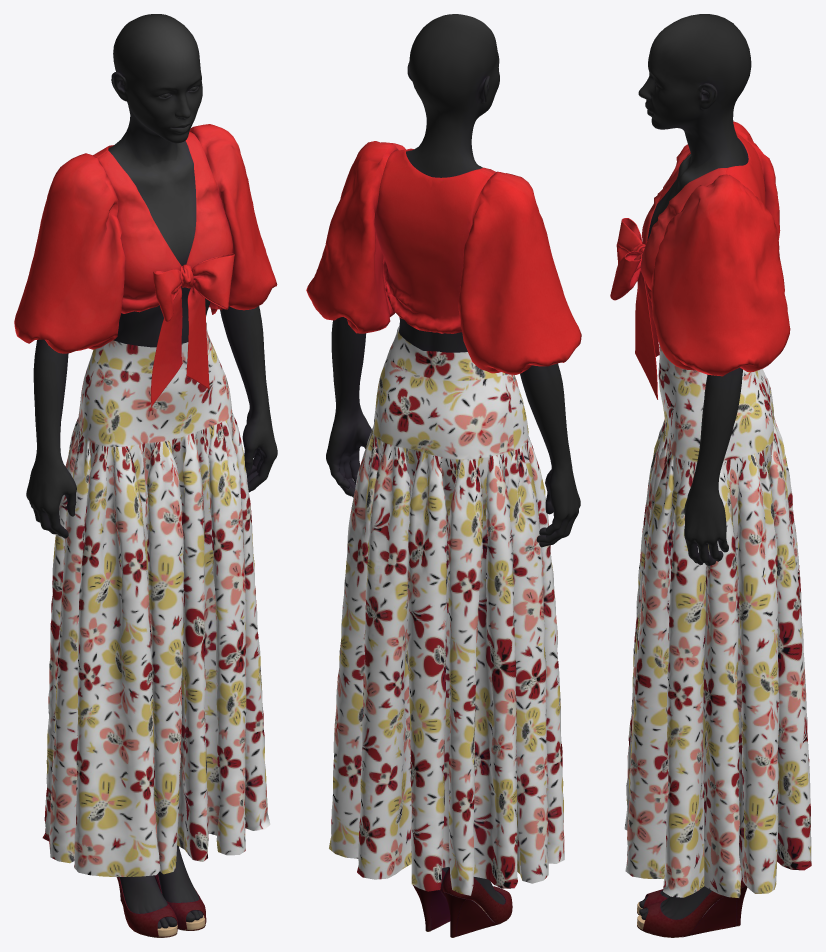
Rendered from Set_01.glb.
3 renders of one model, left to right at view 1: azimuth 30°, elevation 25°; view 2: azimuth 150°, elevation 25°; view 3: azimuth 270°, elevation 25°, orthographic.
Parts seen in each view (by area): view 1: Set01, Maniqui, Zapatos; view 2: Set01, Maniqui, Zapatos; view 3: Set01, Maniqui, Zapatos.
Boxes of the visible parts, x1=… form: Set01: x1=14, y1=124, x2=277, y2=876; Maniqui: x1=26, y1=14, x2=277, y2=928; Zapatos: x1=116, y1=874, x2=206, y2=937; Set01: x1=306, y1=141, x2=581, y2=895; Maniqui: x1=326, y1=14, x2=580, y2=904; Zapatos: x1=413, y1=868, x2=512, y2=937; Set01: x1=610, y1=121, x2=811, y2=897; Maniqui: x1=638, y1=14, x2=751, y2=919; Zapatos: x1=637, y1=879, x2=747, y2=937.
Size of the model in its own units: 0.5497 by 1.87 by 0.3776.
Materials: 2 (2 with a texture image).
